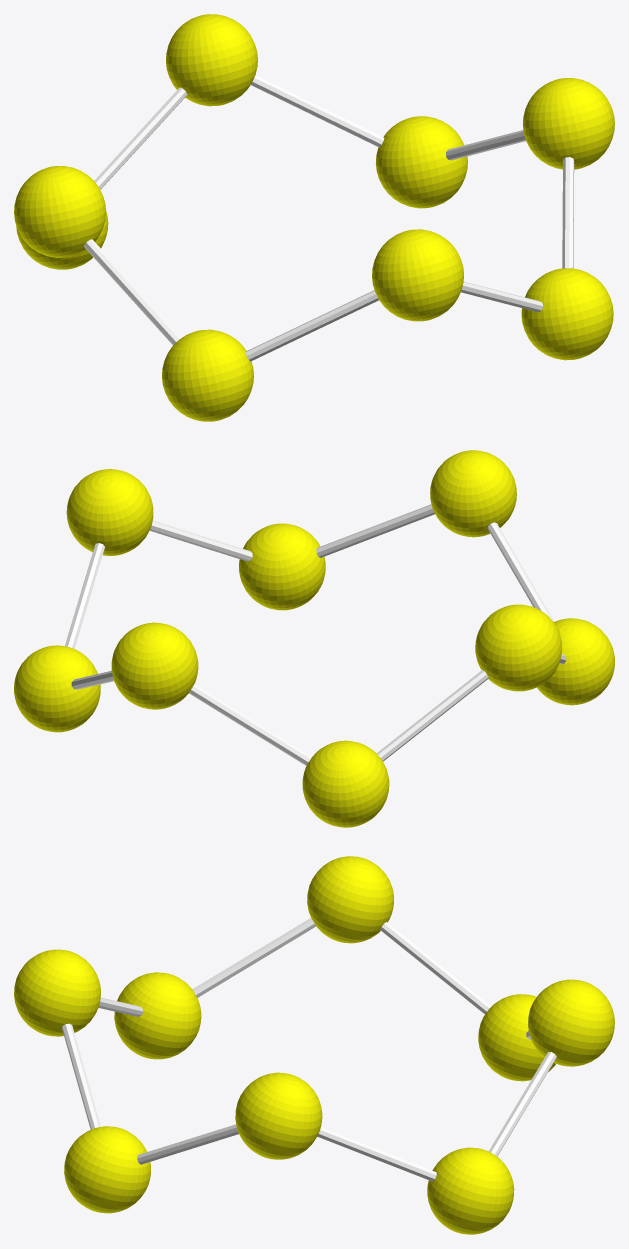
3 renders of one model, top to bottom at view 1: azimuth 30°, elevation 25°; view 2: azimuth 150°, elevation 25°; view 3: azimuth 270°, elevation 25°, orthographic. The views are drawn at different scales.
Bounding box in the file's own units: 0.1401 × 0.045 × 0.1401.
